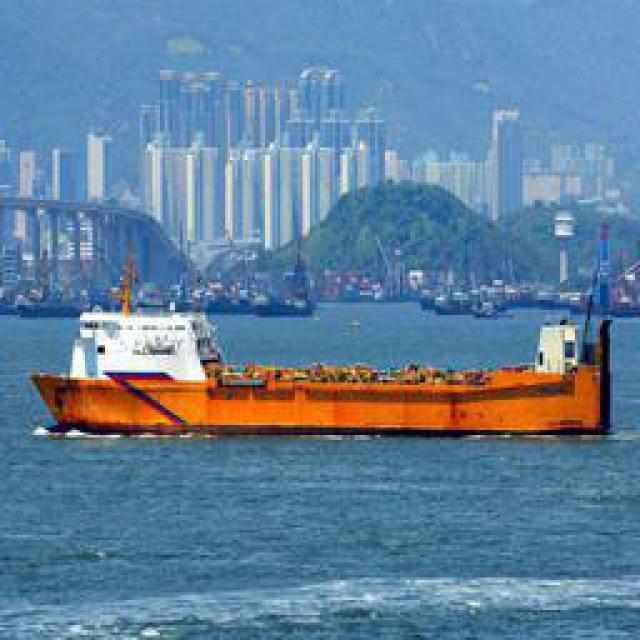Ship: (26, 315, 616, 440)
